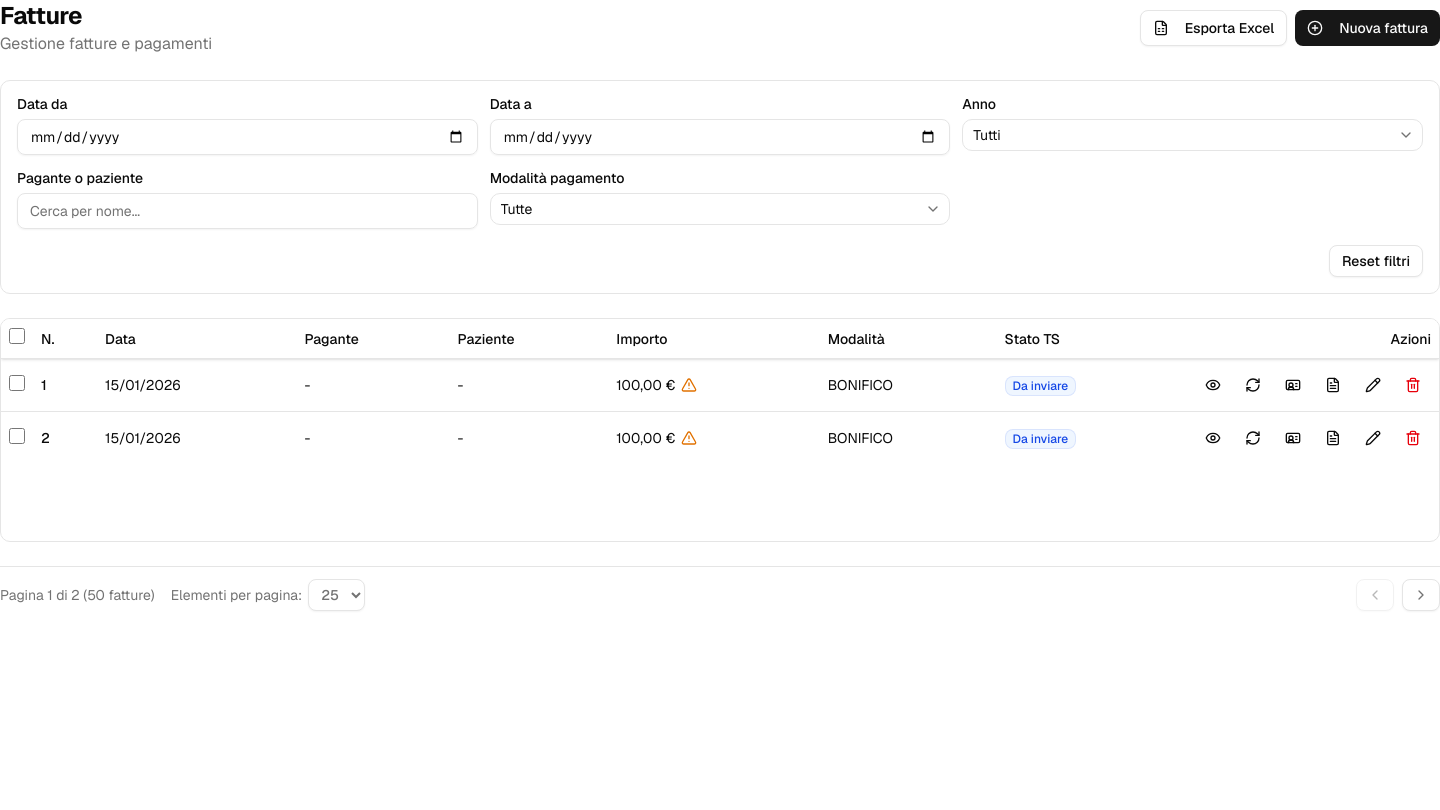
Test: InvoicesManager › nessuna riga selezionata: il dialog di export mostra il totale filtrato (totalCount), non la lunghezza della pagina corrente
Step 1. Click the button "Esporta Excel" → (1214, 28), box [1140,10,1287,46]
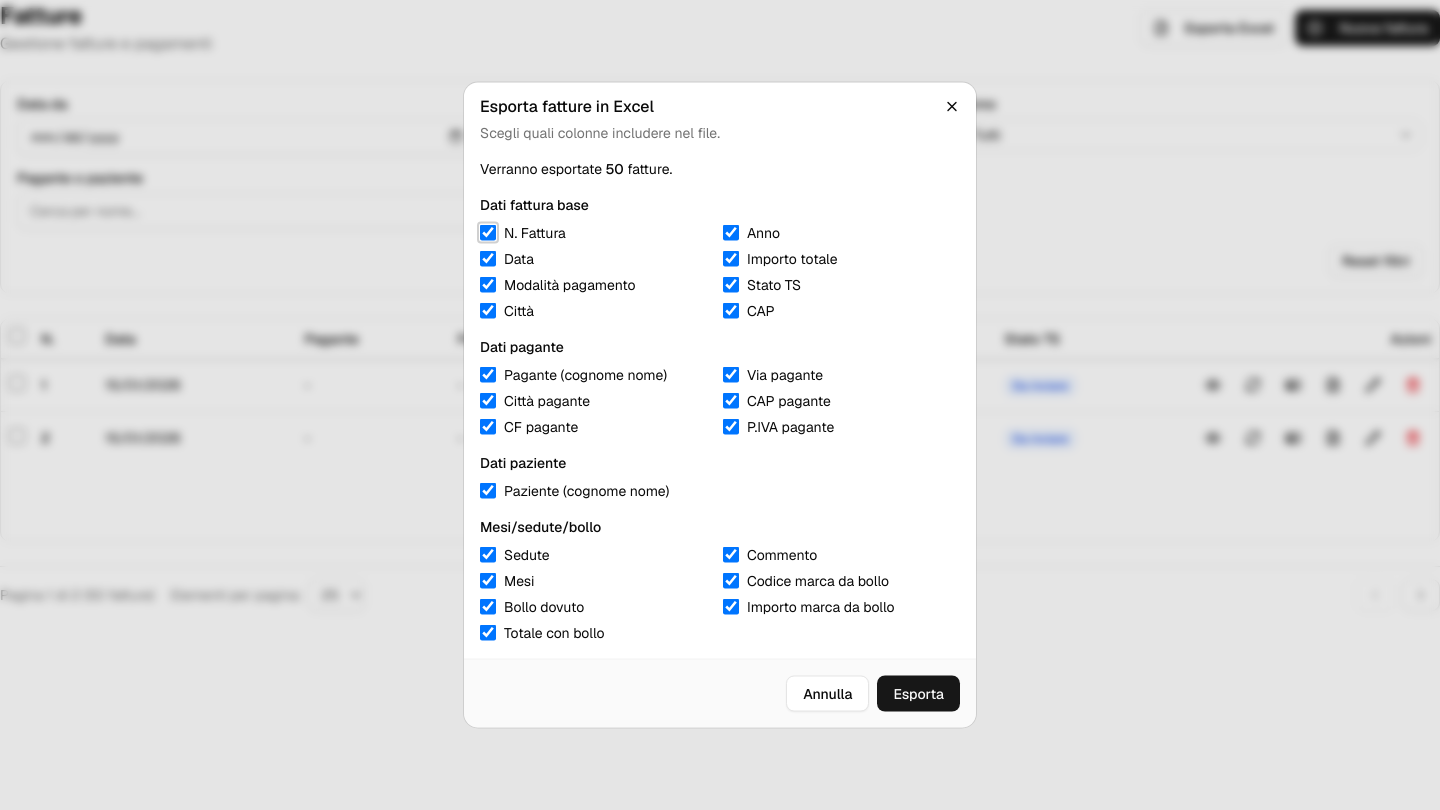
Expected: the text "50" is shown, [606,160,624,178]
